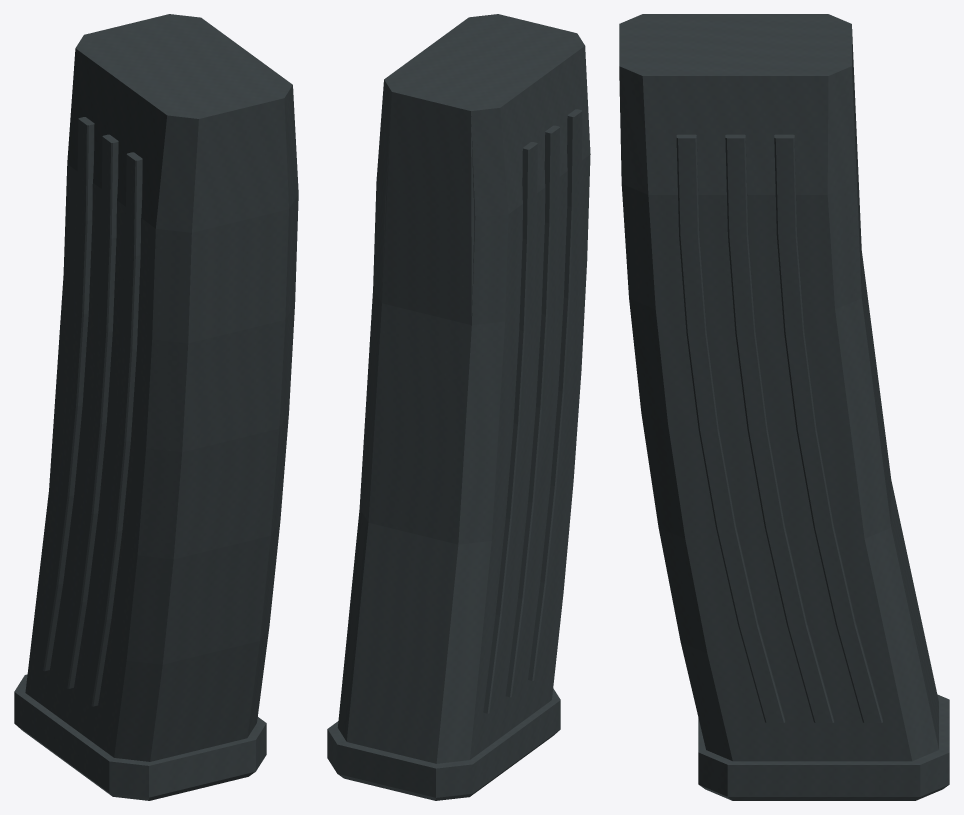
3 renders of one model, left to right at view 1: azimuth 30°, elevation 25°; view 2: azimuth 150°, elevation 25°; view 3: azimuth 270°, elevation 25°, orthographic. The views are drawn at different scales.
Parts seen in each view (by area): view 1: ar556_30_individual_shell, ar556_30_individual_shell.001; view 2: ar556_30_individual_shell.001, ar556_30_individual_shell; view 3: ar556_30_individual_shell, ar556_30_individual_shell.001.
Boxes of the visible parts, x1,y1,x2,y2 form: ar556_30_individual_shell: (14,14,298,800); ar556_30_individual_shell.001: (25,275,151,756); ar556_30_individual_shell.001: (337,92,586,763); ar556_30_individual_shell: (327,14,590,800); ar556_30_individual_shell: (619,14,949,800); ar556_30_individual_shell.001: (656,29,938,761).
Size of the model in its own units: 0.0726 by 0.314 by 0.1307.
1 material, 1 textured.
